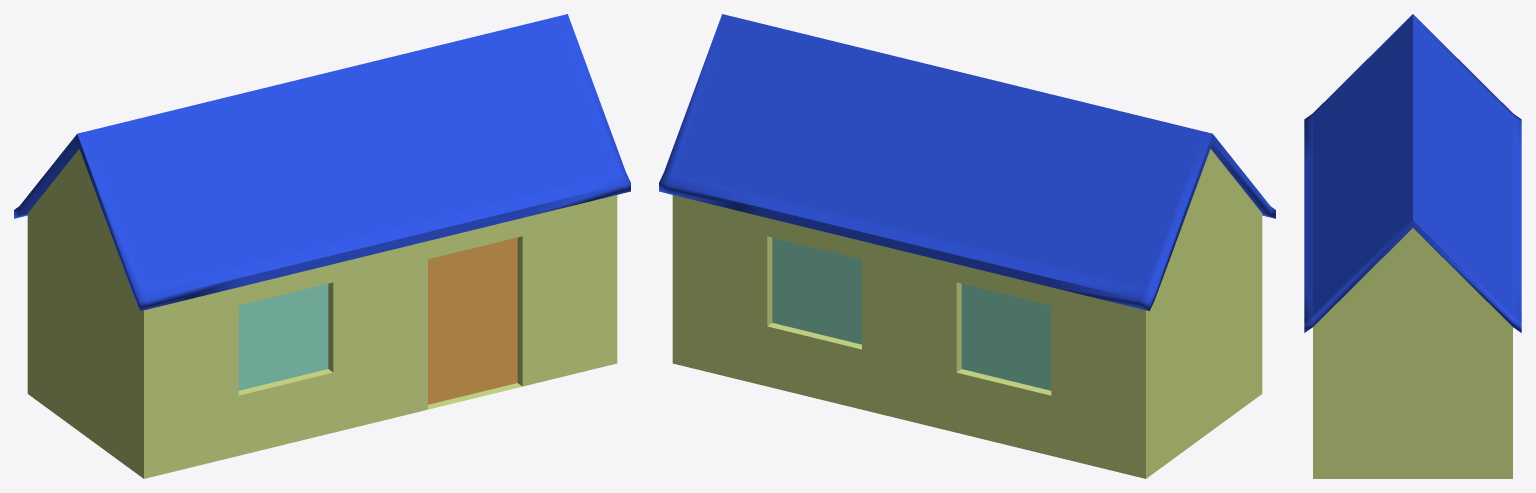
The model's file is simple_house-2.fbx.
The picture shows the model from 3 angles, left to right: view 1: azimuth 30°, elevation 25°; view 2: azimuth 150°, elevation 25°; view 3: azimuth 270°, elevation 25°; orthographic projection. The views are drawn at different scales.
Visible parts, largest first — view 1: Basic house; view 2: Basic house; view 3: Basic house.
Part boxes in pixels (x1,y1,x2,y2): Basic house: (14,14,630,478); Basic house: (659,14,1275,478); Basic house: (1304,14,1521,478).
Bounding box in the file's own units: 569 × 338 × 254.
